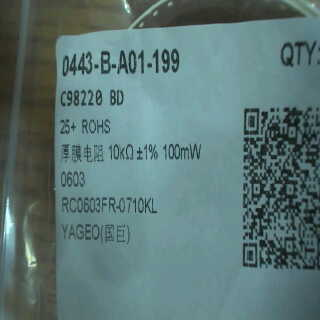10kR: (107, 141, 137, 163)
